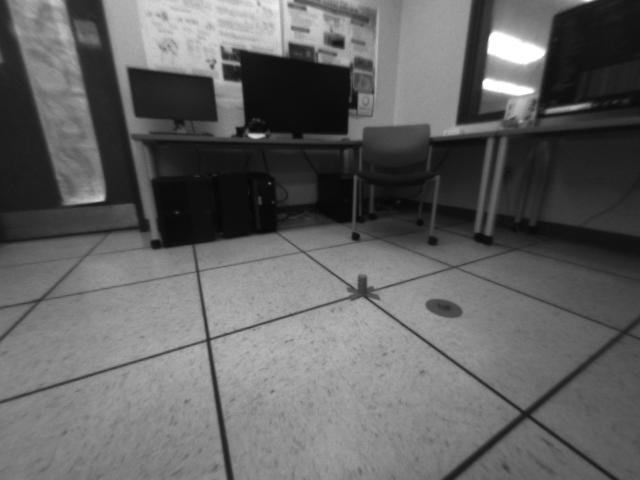X: (344, 273, 382, 302)
